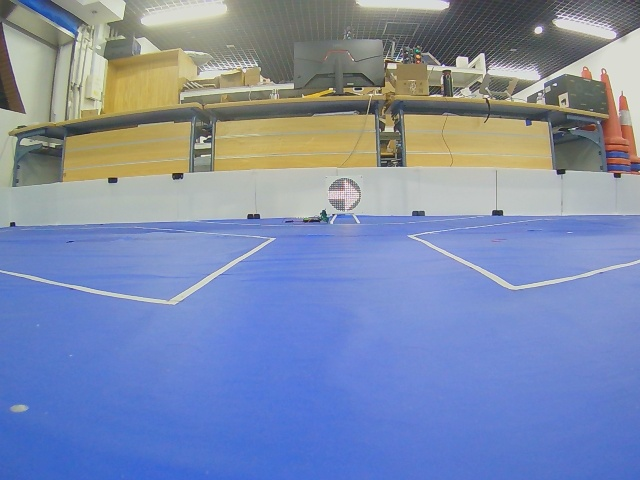right_yellow: (328, 178, 362, 212)
